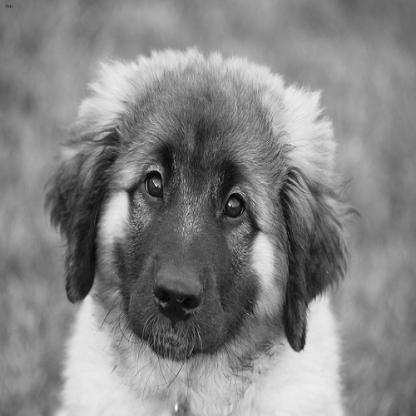Leonberger: (29, 21, 372, 415)
